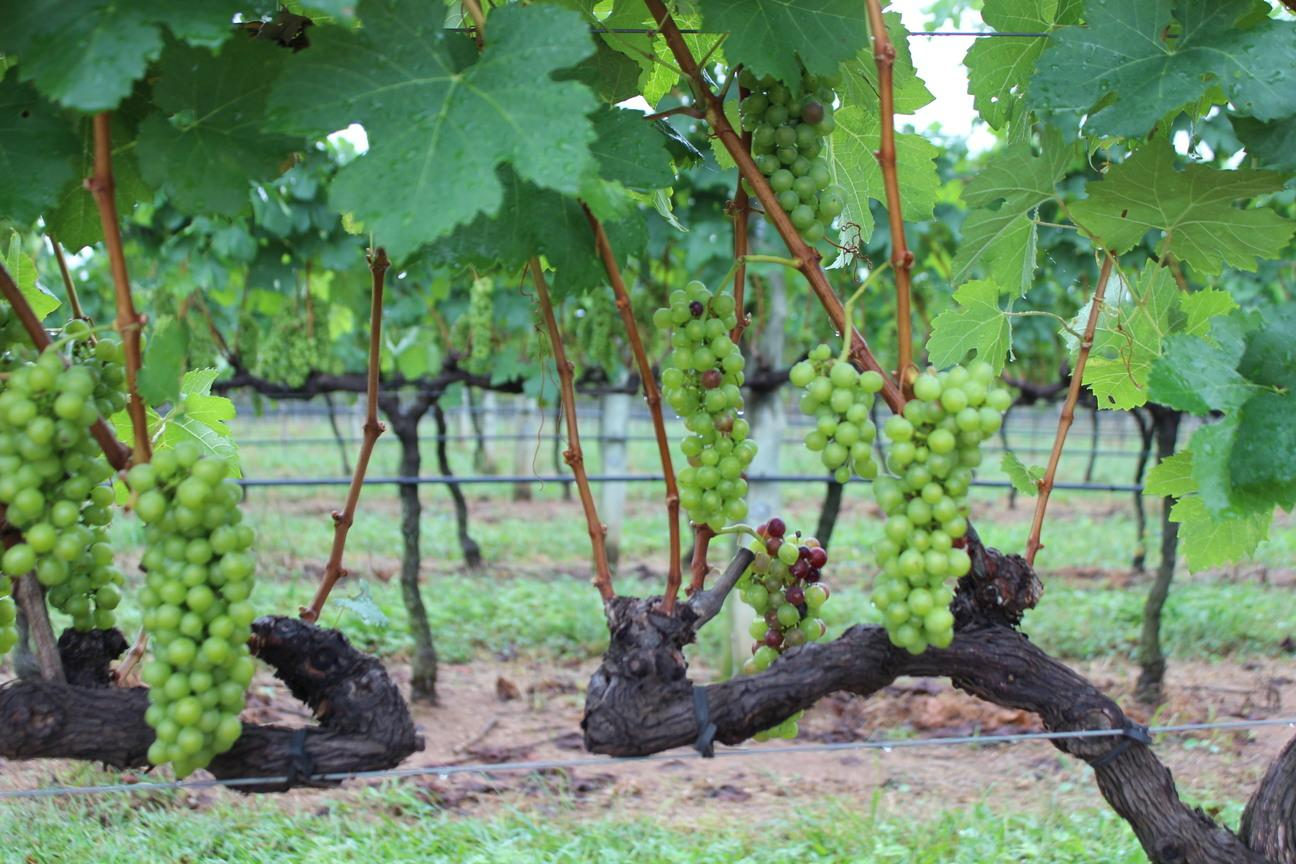leaf: (270, 0, 594, 259), (1029, 0, 1295, 136), (1071, 140, 1295, 274), (137, 40, 298, 214), (953, 136, 1070, 292), (697, 0, 867, 81), (0, 71, 76, 224), (928, 279, 1009, 369), (4, 229, 60, 319), (1142, 449, 1196, 496), (999, 450, 1044, 494), (967, 217, 970, 220), (0, 16, 1, 18), (0, 27, 1, 28)
